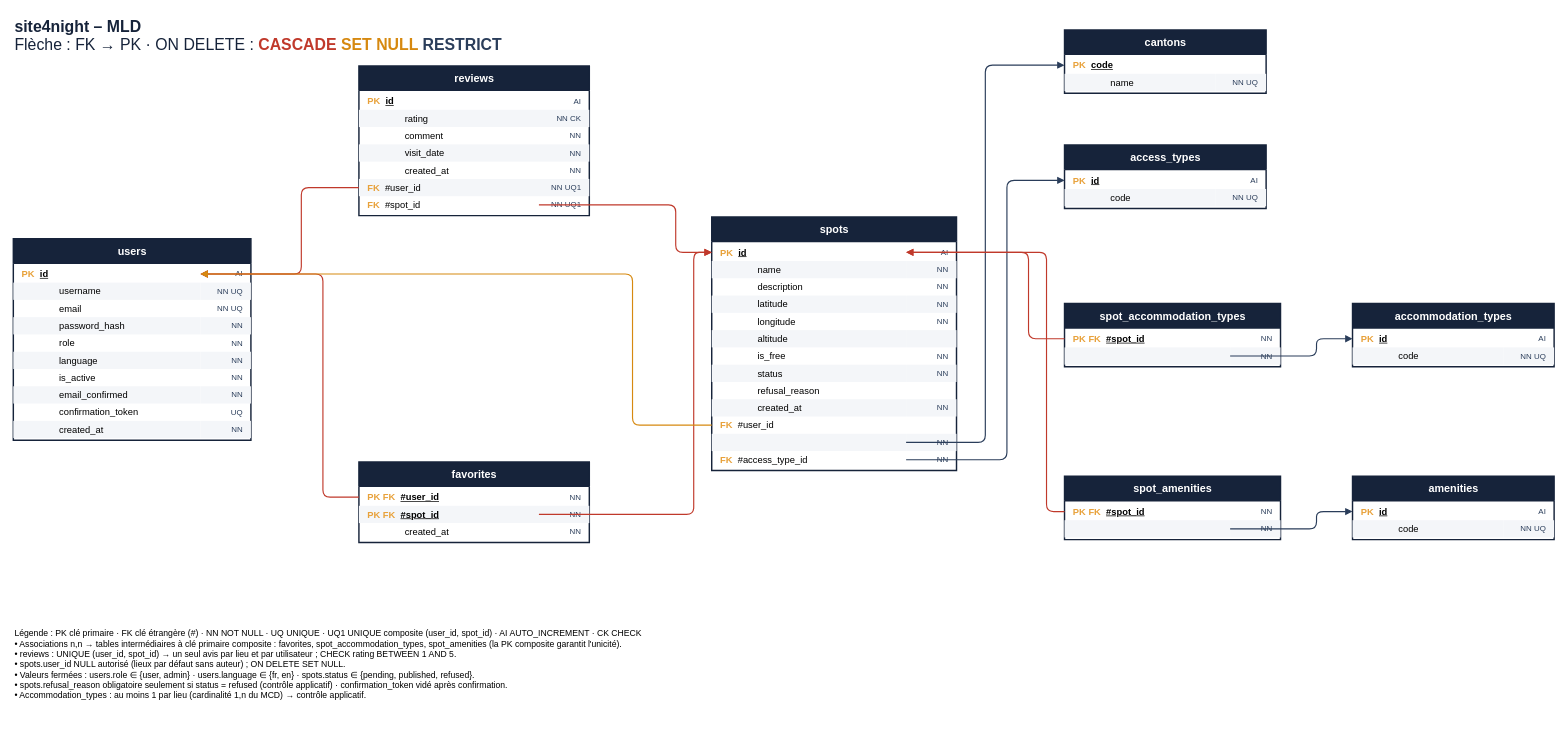
The diagram is 1567 pixels wide and 729 high, and some of its shapes have lost their labels. The centre of each missing label's shape, as x and y in pixels:
"FK #canton_code" goes at point 808,442.
"PK FK #accommodation_type_id" goes at point 1147,355.
"PK FK #amenity_id" goes at point 1147,528.
